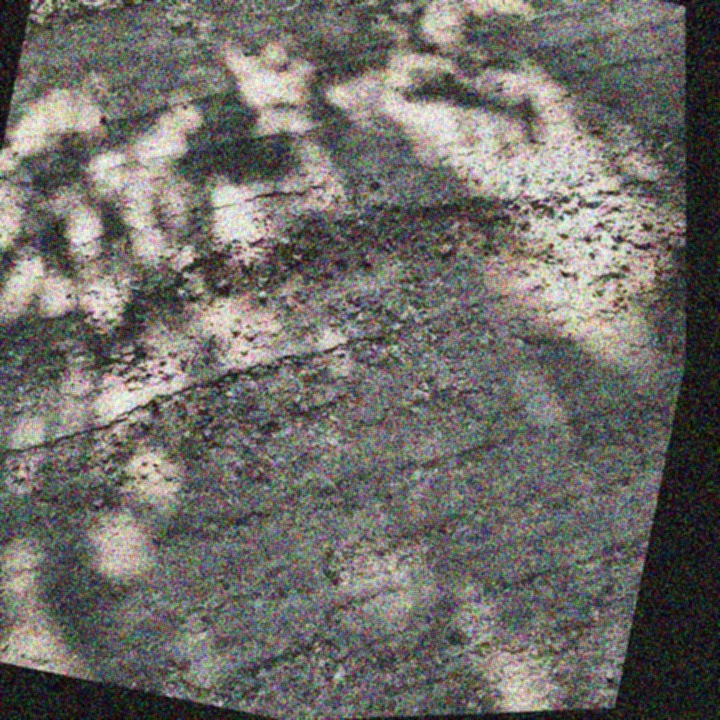pothole: (93, 106, 574, 453)
